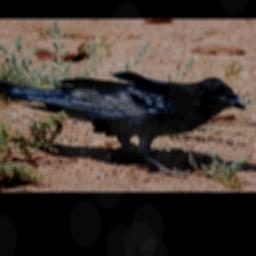Crow: (0, 70, 248, 178)
